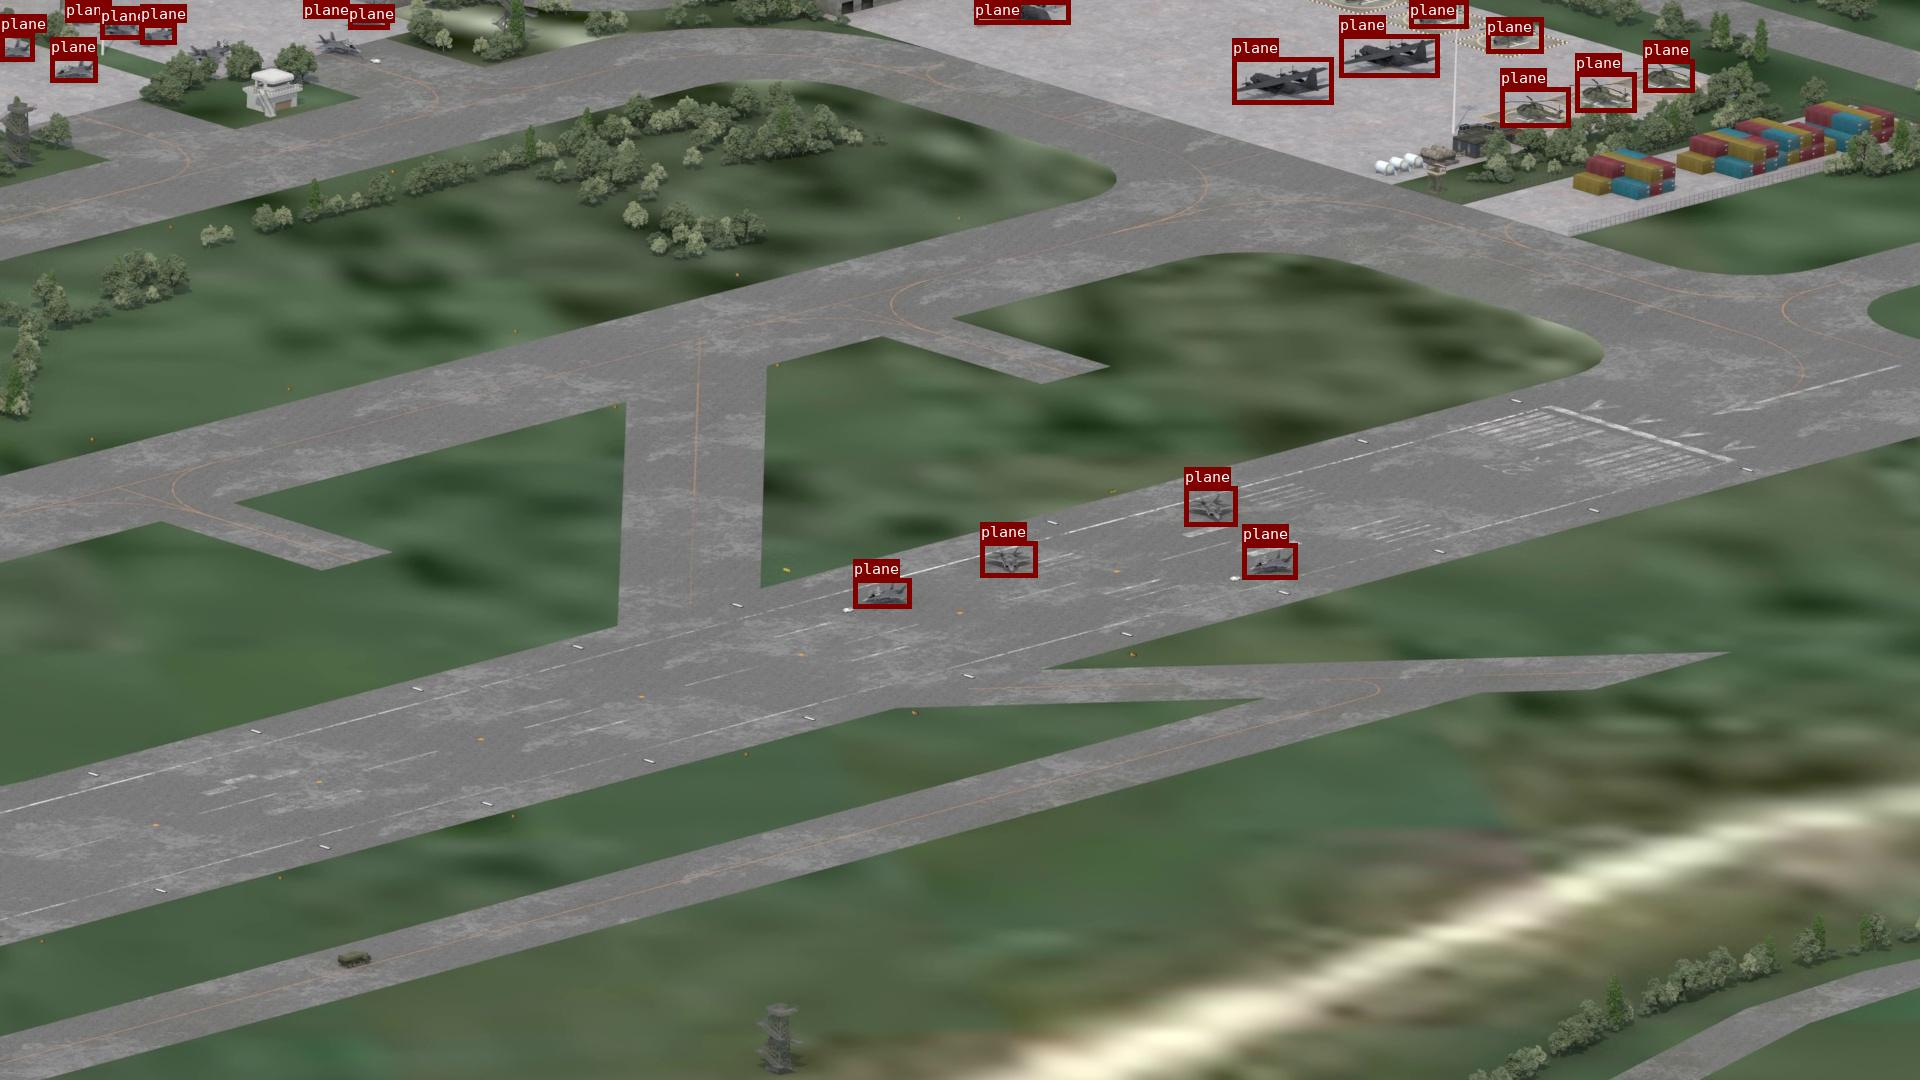plane: (1232, 57, 1333, 104), (1338, 34, 1439, 76), (1501, 87, 1571, 127), (1575, 73, 1636, 112), (975, 0, 1069, 24), (980, 541, 1036, 578), (1184, 487, 1237, 526), (1486, 17, 1543, 53), (1242, 543, 1298, 579), (853, 578, 911, 608), (1643, 59, 1695, 92), (1408, 0, 1468, 28), (100, 7, 142, 40), (50, 55, 98, 82), (348, 4, 389, 29), (0, 33, 34, 61), (65, 0, 105, 22), (140, 22, 175, 44), (303, 0, 340, 15)
